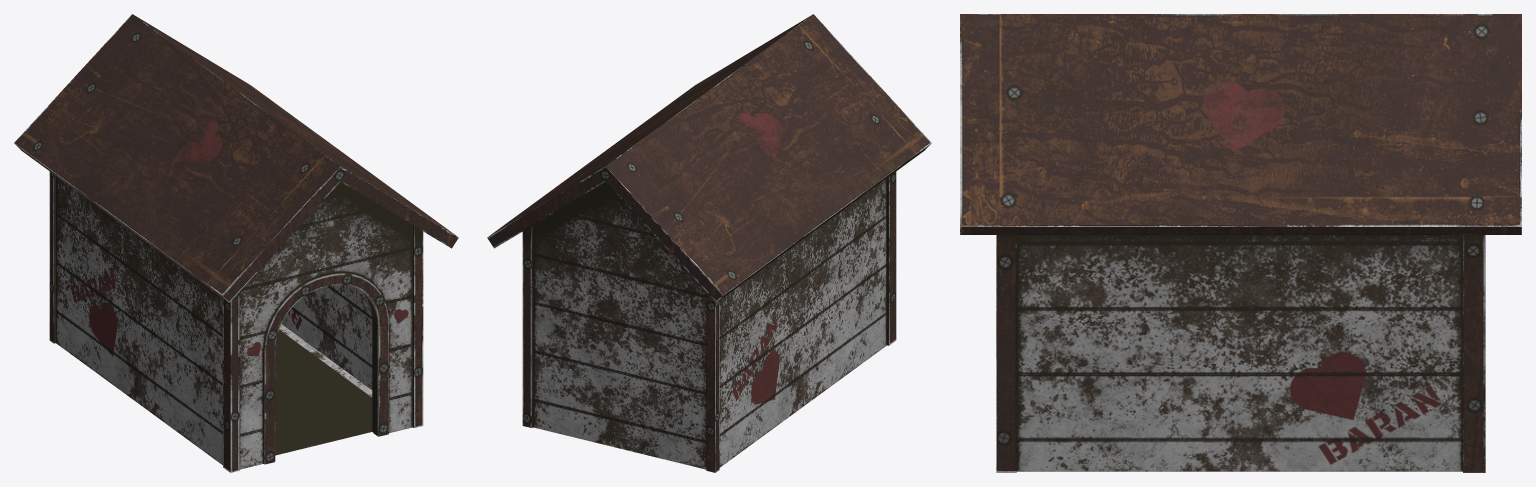
Rendered from dog_house.glb.
3 renders of one model, left to right at view 1: azimuth 30°, elevation 25°; view 2: azimuth 150°, elevation 25°; view 3: azimuth 270°, elevation 25°, orthographic. The views are drawn at different scales.
Parts seen in each view (by area): view 1: Cube; view 2: Cube; view 3: Cube.
Boxes of the visible parts, bbox=[...] form: Cube: bbox=[14, 14, 458, 472]; Cube: bbox=[487, 14, 931, 472]; Cube: bbox=[960, 14, 1521, 472].
Bounding box in the file's own units: 0.9601 × 1.14 × 1.46.
Materials: 1 (1 with a texture image).
